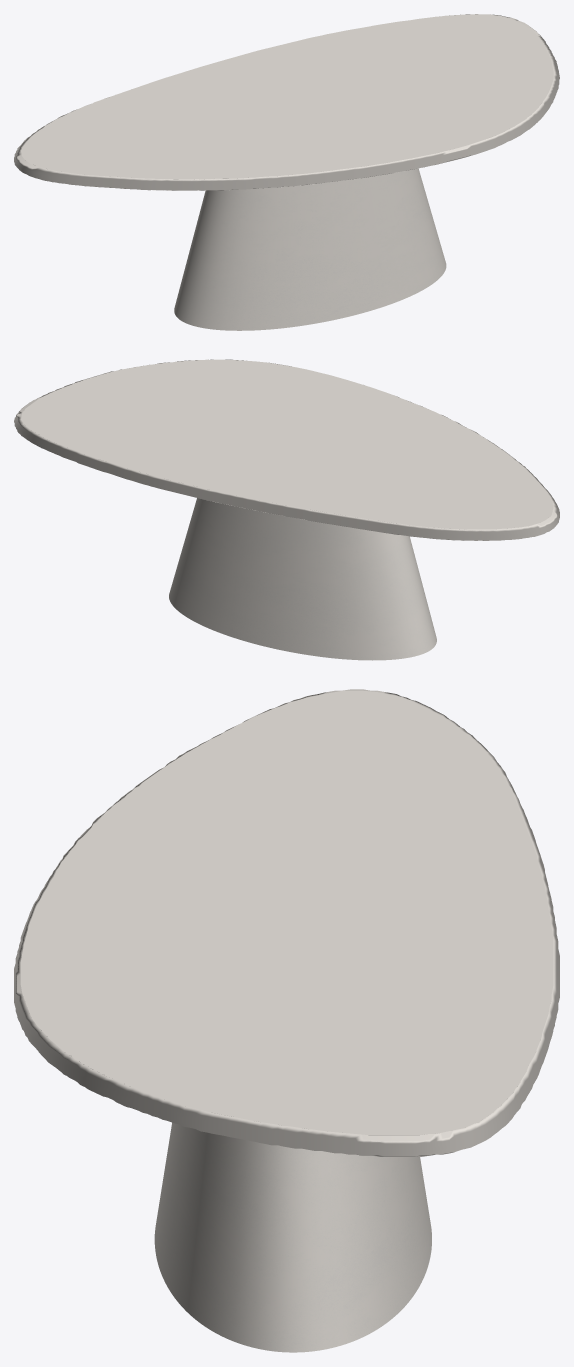
Rendered from pearlwhite_pebbletop_round_eqone.glb.
3 renders of one model, top to bottom at view 1: azimuth 30°, elevation 25°; view 2: azimuth 150°, elevation 25°; view 3: azimuth 270°, elevation 25°, orthographic. The views are drawn at different scales.
Parts seen in each view (by area): view 1: round_pebbletop, eqone; view 2: round_pebbletop, eqone; view 3: round_pebbletop, eqone.
Boxes of the visible parts, bbox=[...] form: round_pebbletop: bbox=[14, 14, 559, 190]; eqone: bbox=[174, 168, 446, 330]; round_pebbletop: bbox=[14, 359, 559, 540]; eqone: bbox=[169, 498, 436, 660]; round_pebbletop: bbox=[14, 689, 559, 1156]; eqone: bbox=[154, 1122, 431, 1352].
Bounding box in the file's own units: 7.69 × 2.5 × 3.89.
Materials: 1 (1 with a texture image).
